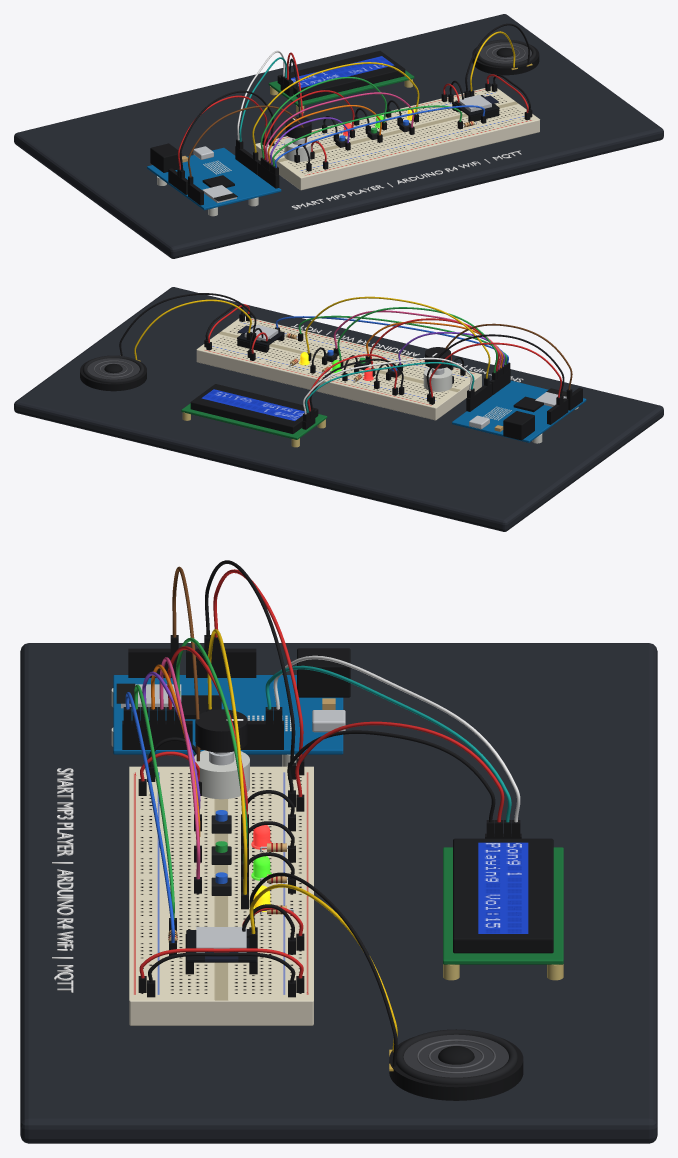
The model's file is mp3_player.glb.
3 views of the same model, one above another, from view 1: azimuth 30°, elevation 25°; view 2: azimuth 150°, elevation 25°; view 3: azimuth 270°, elevation 25° (orthographic). The views are drawn at different scales.
Parts seen in each view (by area): view 1: Base_plate, Breadboard_top, Breadboard_body, Arduino_PCB, LCD_bezel, LCD_screen, LCD_PCB, Plate_label, Speaker_cone, Power_jack, Speaker_frame, Wire_LED_D9 (+10 smaller); view 2: Base_plate, Breadboard_top, Breadboard_body, Arduino_PCB, LCD_bezel, LCD_screen, LCD_PCB, Power_jack, Speaker_cone, Speaker_frame, Wire_LED_D9, Speaker_surround (+16 smaller); view 3: Base_plate, Breadboard_top, LCD_bezel, Arduino_PCB, Breadboard_body, LCD_screen, LCD_PCB, Speaker_cone, Plate_label, Speaker_frame, Power_jack, Speaker_surround (+21 smaller).
Part boxes in pixels (left/top/right/bottom): Base_plate: left=14, top=14, right=663, bottom=258; Breadboard_top: left=255, top=86, right=539, bottom=177; Breadboard_body: left=256, top=119, right=539, bottom=190; Arduino_PCB: left=147, top=147, right=281, bottom=210; LCD_bezel: left=277, top=50, right=405, bottom=100; LCD_screen: left=291, top=56, right=394, bottom=87; LCD_PCB: left=268, top=70, right=414, bottom=106; Plate_label: left=291, top=150, right=521, bottom=209; Speaker_cone: left=479, top=42, right=531, bottom=63; Power_jack: left=150, top=143, right=181, bottom=172; Speaker_frame: left=472, top=44, right=539, bottom=75; Wire_LED_D9: left=252, top=62, right=419, bottom=152; Base_plate: left=14, top=287, right=663, bottom=531; Breadboard_top: left=196, top=316, right=481, bottom=407; Breadboard_body: left=196, top=349, right=481, bottom=420; Arduino_PCB: left=452, top=380, right=586, bottom=442; LCD_bezel: left=190, top=384, right=318, bottom=433; LCD_screen: left=201, top=389, right=304, bottom=420; LCD_PCB: left=181, top=403, right=327, bottom=439; Power_jack: left=503, top=411, right=534, bottom=440; Speaker_cone: left=87, top=358, right=139, bottom=379; Speaker_frame: left=80, top=359, right=146, bottom=391; Wire_LED_D9: left=305, top=296, right=490, bottom=378; Speaker_surround: left=82, top=355, right=144, bottom=383; Base_plate: left=20, top=643, right=657, bottom=1143; Breadboard_top: left=129, top=766, right=313, bottom=1000; LCD_bezel: left=453, top=838, right=553, bottom=953; Arduino_PCB: left=113, top=675, right=343, bottom=754; Breadboard_body: left=129, top=1000, right=313, bottom=1025; LCD_screen: left=478, top=842, right=528, bottom=933; LCD_PCB: left=443, top=847, right=563, bottom=964; Speaker_cone: left=403, top=1034, right=508, bottom=1077; Plate_label: left=52, top=768, right=73, bottom=992; Speaker_frame: left=389, top=1037, right=523, bottom=1100; Power_jack: left=297, top=648, right=350, bottom=697; Speaker_surround: left=396, top=1029, right=517, bottom=1084.
Size of the model in its own units: 34 by 6.83 by 19.
46 materials, 2 textured.
